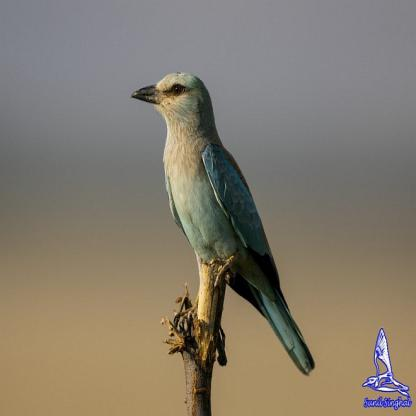Burung: (131, 71, 315, 377)
